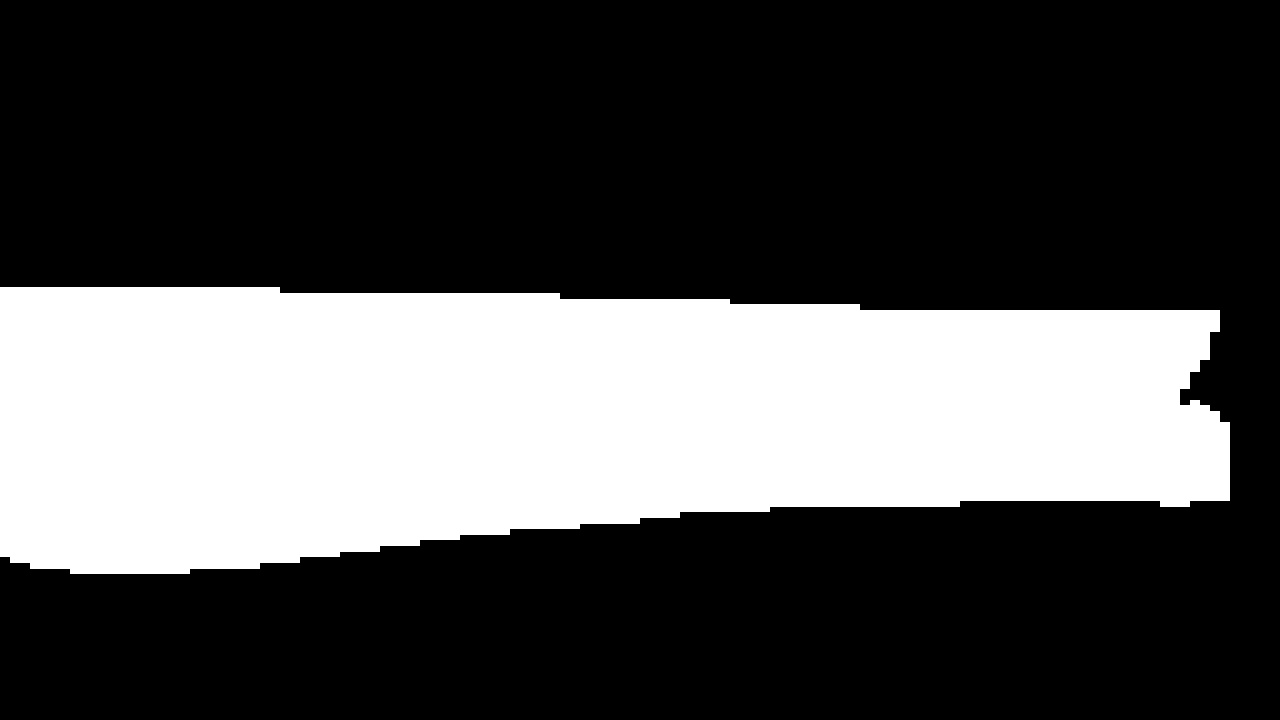Turbine: (6, 267, 1246, 588)
